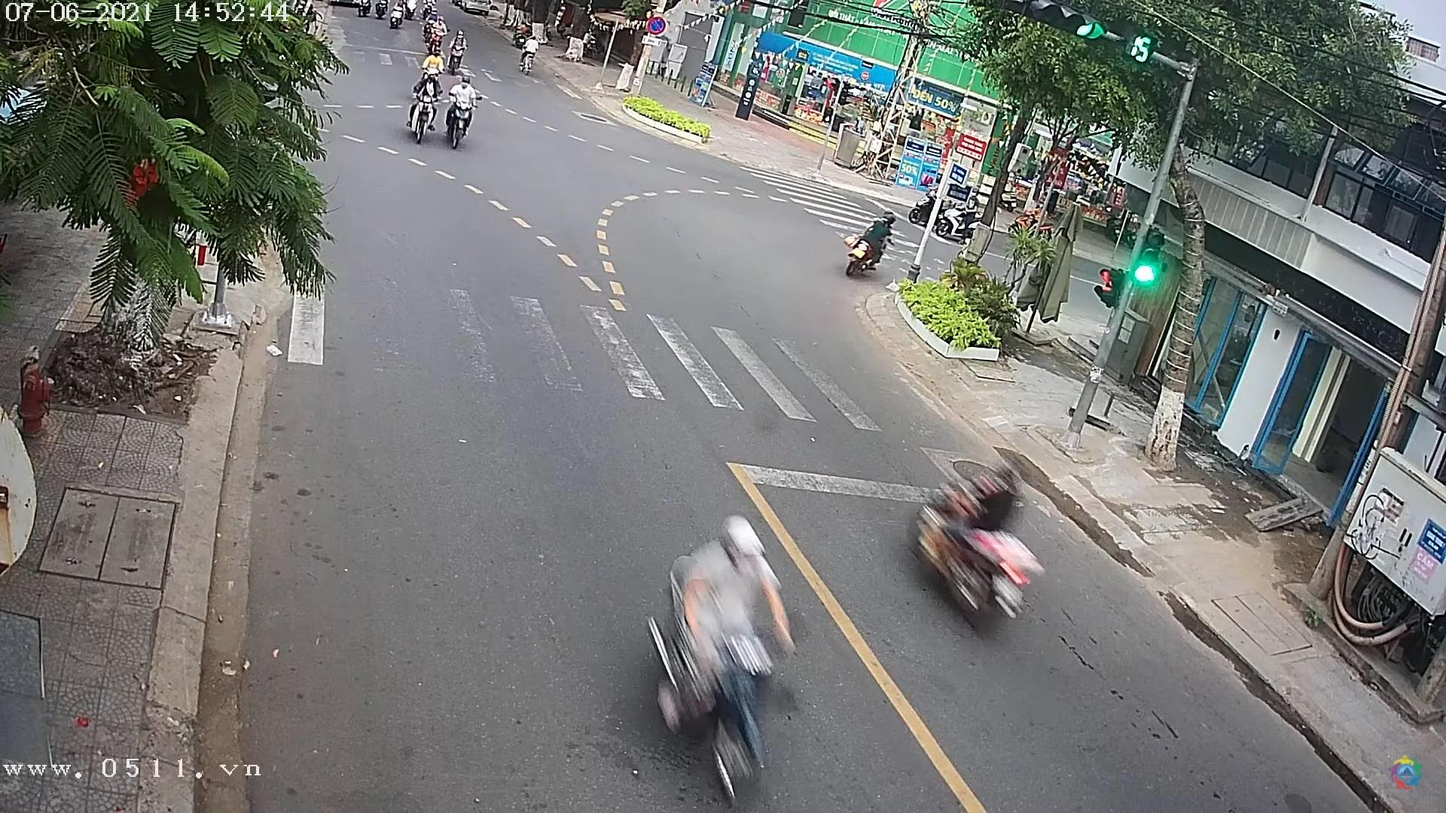motorbike: (844, 219, 887, 276), (407, 87, 440, 144), (440, 102, 479, 148), (448, 39, 466, 72)
